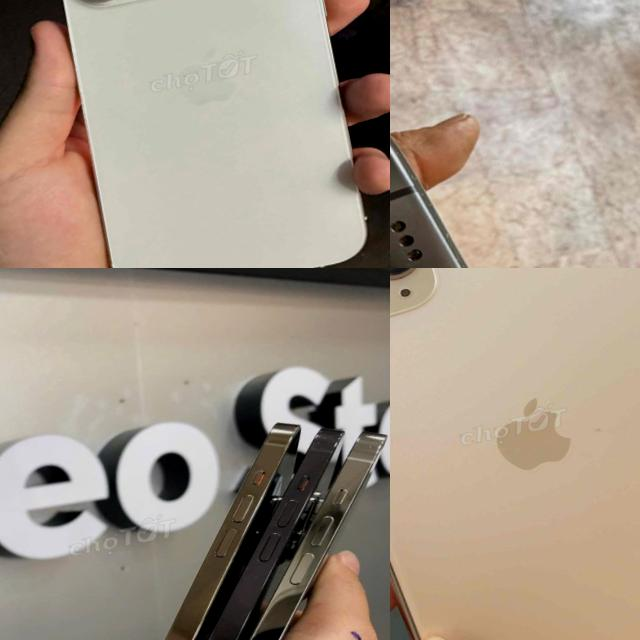gen_11: (390, 268, 640, 640)
gen_14: (164, 424, 299, 640)
gen_15: (27, 0, 390, 268)
gen_17: (390, 71, 623, 268)
